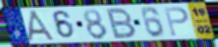6: (140, 6, 165, 39), (52, 10, 77, 40)
8: (82, 8, 110, 40)
A: (26, 9, 59, 42)
B: (106, 7, 138, 40)
P: (163, 6, 190, 37)
